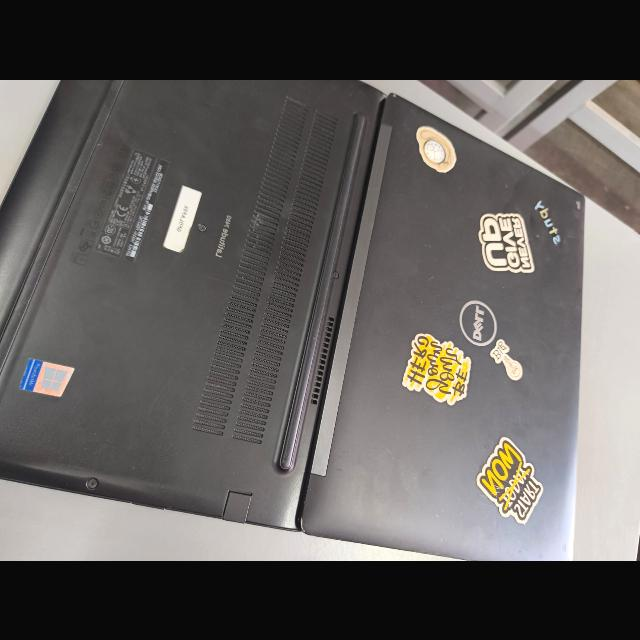laptop: (4, 79, 614, 553)
